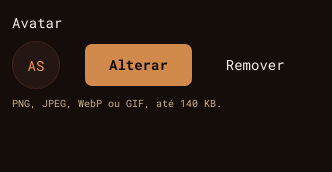
Test case: AvatarField › erro de campo (422) e 401 aparecem como alerta
This screenshot has width=332, height=172.
Click the button named "Remover avatar" at coordinates (255, 65), box 217,43 -> 294,87
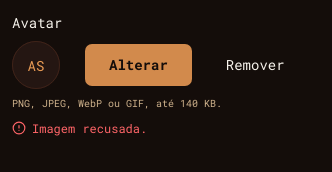
Expected: the message reads "Imagem recusada.", 32,120 -> 147,136
Click the button named "Remover avatar" at coordinates (255, 65), box 217,43 -> 294,87
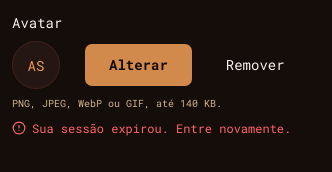
Expected: the message shows "sessão", 32,120 -> 291,136
